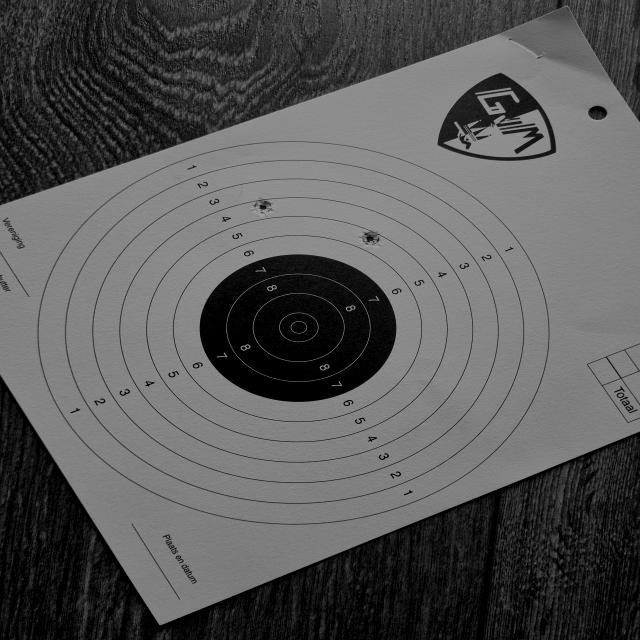4: (253, 200, 273, 214)
5: (360, 231, 380, 246)
Target: (37, 140, 554, 525)
black_contour: (199, 254, 397, 403)
